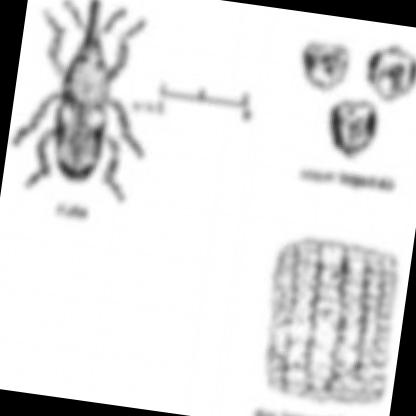ash weevil: (14, 0, 146, 205)
